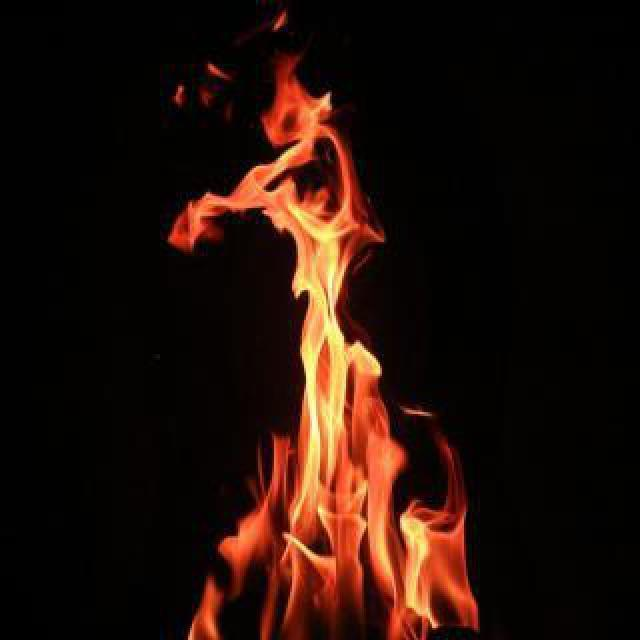Fire: (168, 40, 510, 638)
